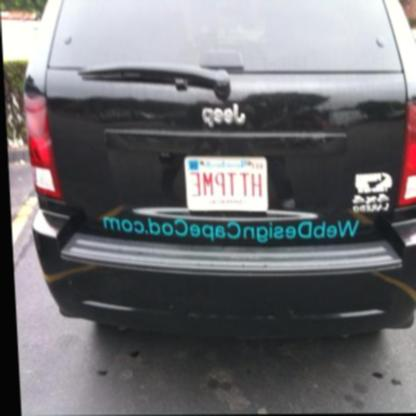License_Plate: (182, 156, 269, 214)
